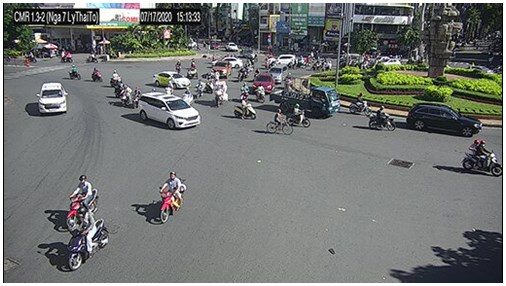xe_dap: (266, 108, 294, 136)
xe_hoi: (407, 103, 483, 137), (138, 92, 201, 129), (38, 83, 70, 114), (152, 71, 190, 89), (252, 73, 275, 92), (268, 64, 289, 83), (211, 57, 243, 68), (210, 61, 231, 77), (267, 54, 296, 65), (376, 58, 401, 68), (223, 42, 238, 51), (209, 41, 218, 50)
xe_may: (67, 207, 110, 269), (66, 175, 98, 229), (461, 140, 503, 177), (158, 171, 187, 223), (368, 106, 395, 132), (287, 104, 310, 129), (232, 97, 256, 120), (347, 93, 372, 115), (119, 83, 134, 108), (114, 78, 130, 99), (215, 84, 225, 108), (68, 64, 82, 81), (132, 86, 142, 109), (188, 58, 198, 79), (255, 83, 265, 104), (90, 68, 103, 84), (60, 48, 73, 63), (312, 57, 325, 72), (240, 83, 248, 102), (184, 88, 193, 104), (89, 50, 99, 63), (175, 60, 182, 73)
xe_tai: (270, 78, 340, 118)
